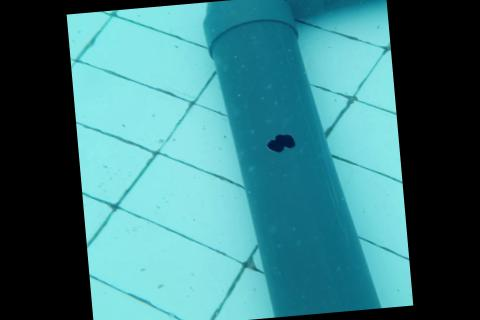kebocoran: (264, 130, 298, 153)
